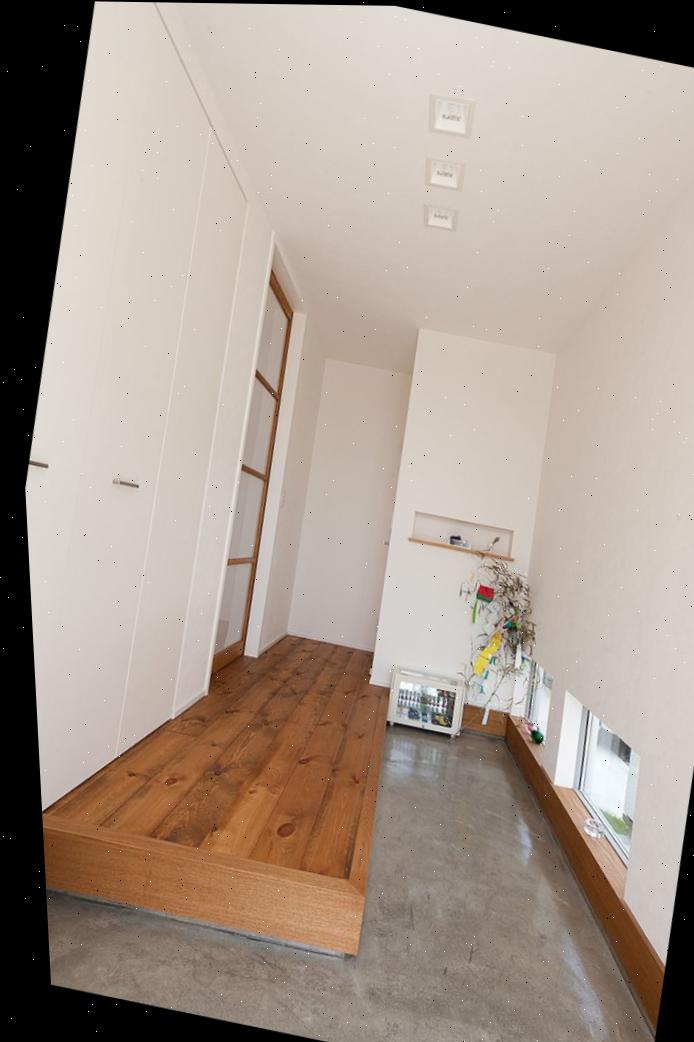floor: (46, 720, 655, 1042)
safe: (42, 634, 382, 880)
